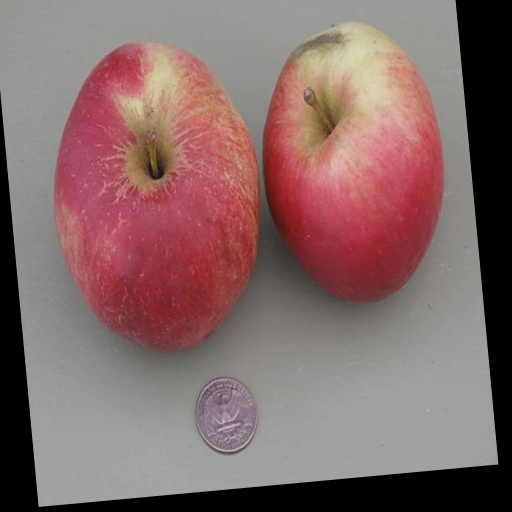fruit: (53, 43, 258, 350), (263, 24, 443, 301)
